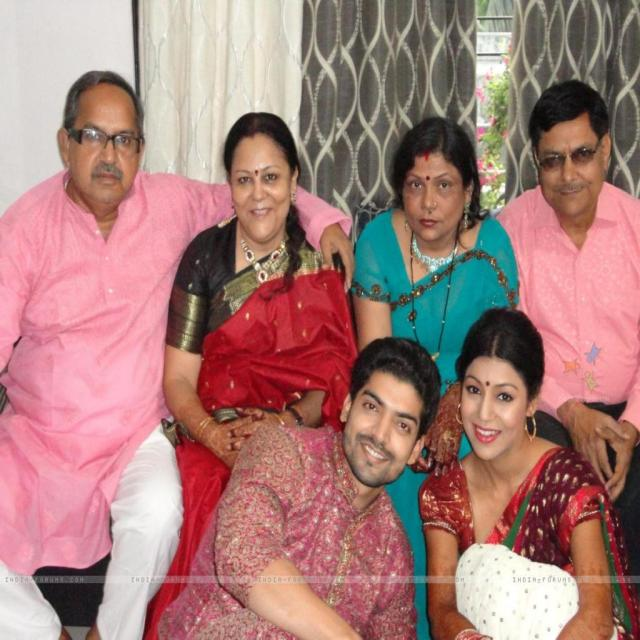Face: (63, 83, 149, 213), (343, 362, 424, 486), (461, 356, 535, 460), (233, 128, 298, 243), (402, 146, 478, 243), (536, 120, 608, 222)
